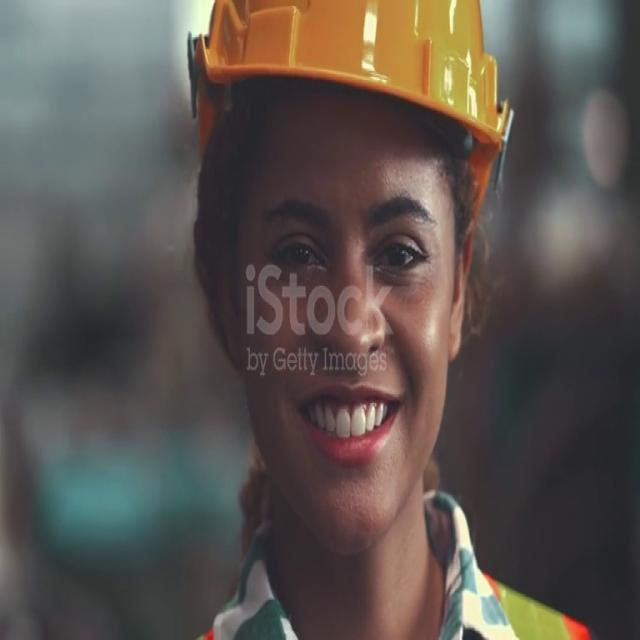capacete: (174, 6, 524, 213)
